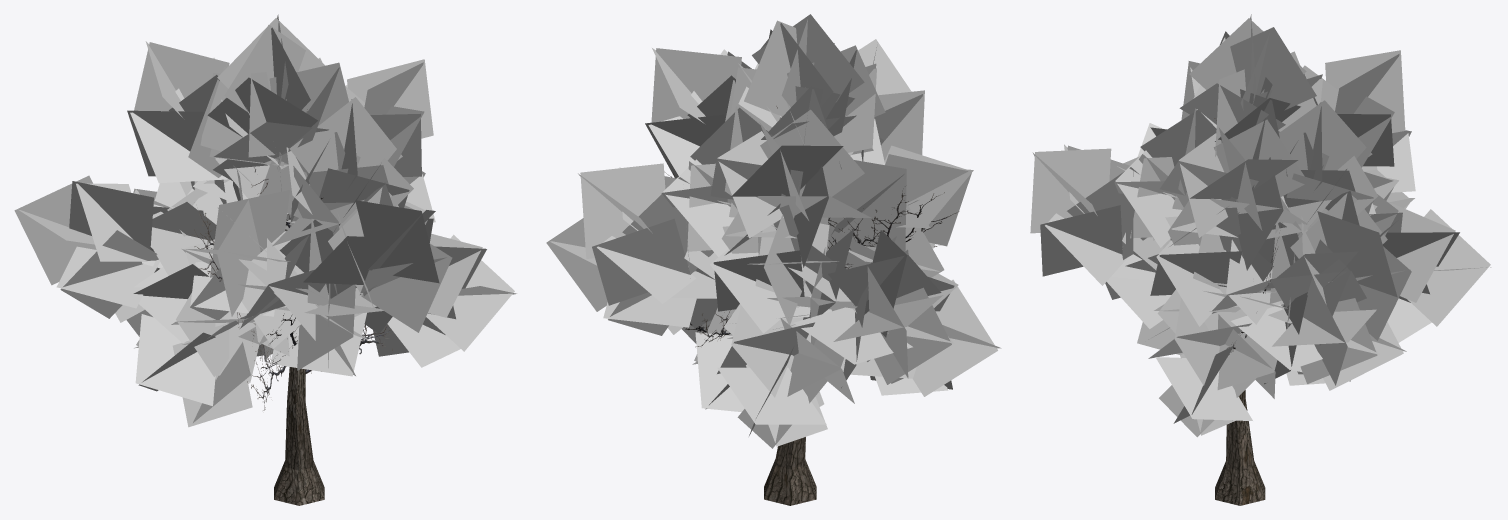
The model's file is oak-02.fbx.
3 views of the same model, side by side, from view 1: azimuth 30°, elevation 25°; view 2: azimuth 150°, elevation 25°; view 3: azimuth 270°, elevation 25° (orthographic). The views are drawn at different scales.
Parts seen in each view (by area): view 1: oak-02; view 2: oak-02; view 3: oak-02.
Boxes of the visible parts, x1,y1,x2,y2 form: oak-02: [14, 14, 516, 505]; oak-02: [546, 14, 1001, 505]; oak-02: [1030, 14, 1491, 505].
Bounding box in the file's own units: 2163 × 2469 × 2216.
